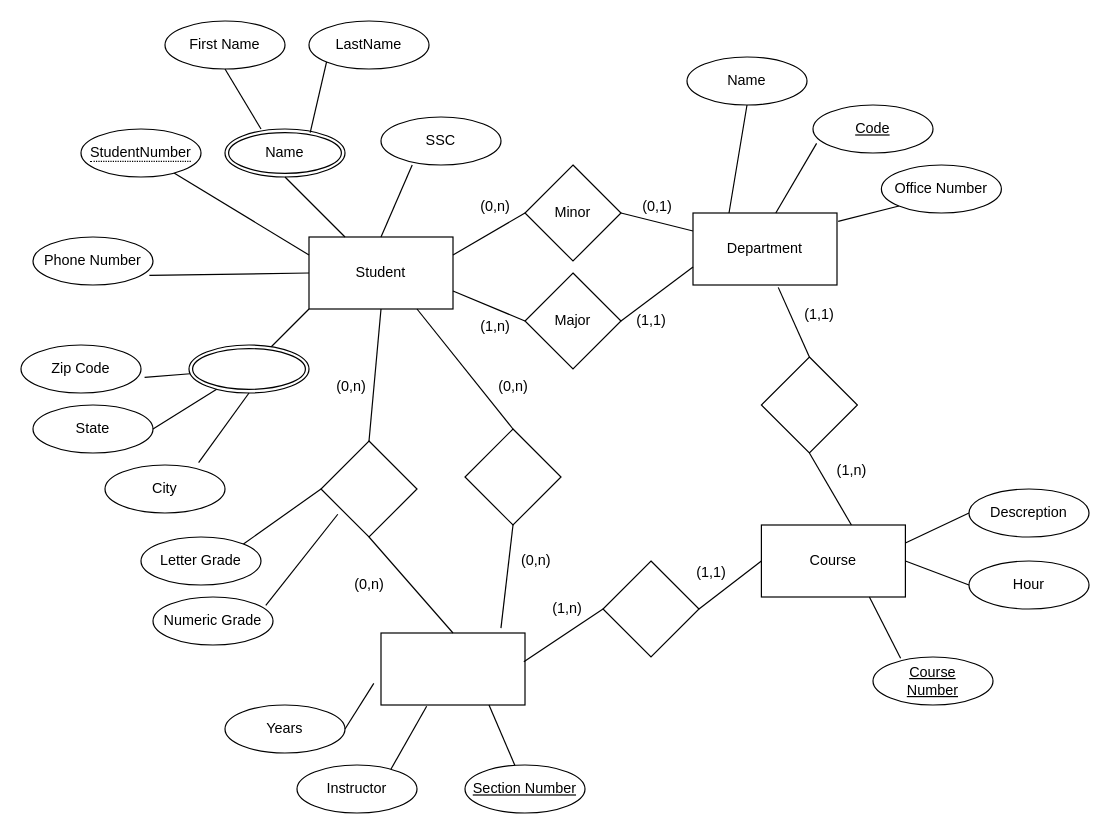
Some shapes in this 1110 by 834 pixel diagram are drawn without their labels. Each missing label, with the box of its shape:
Has: (602, 560, 699, 657)
offer: (760, 356, 857, 453)
Permanent address: (188, 344, 309, 393)
ReportGrade: (320, 440, 417, 537)
Section: (380, 632, 525, 705)
Study: (464, 428, 561, 525)
